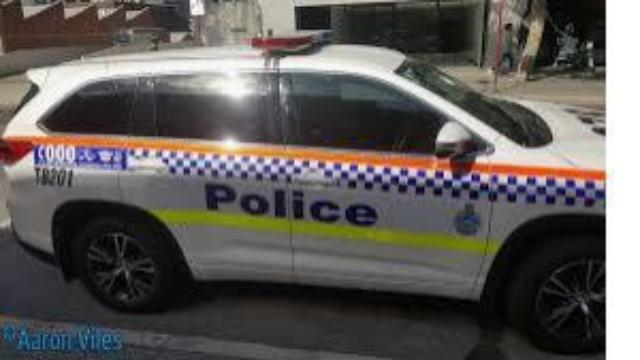police: (0, 28, 606, 356)
